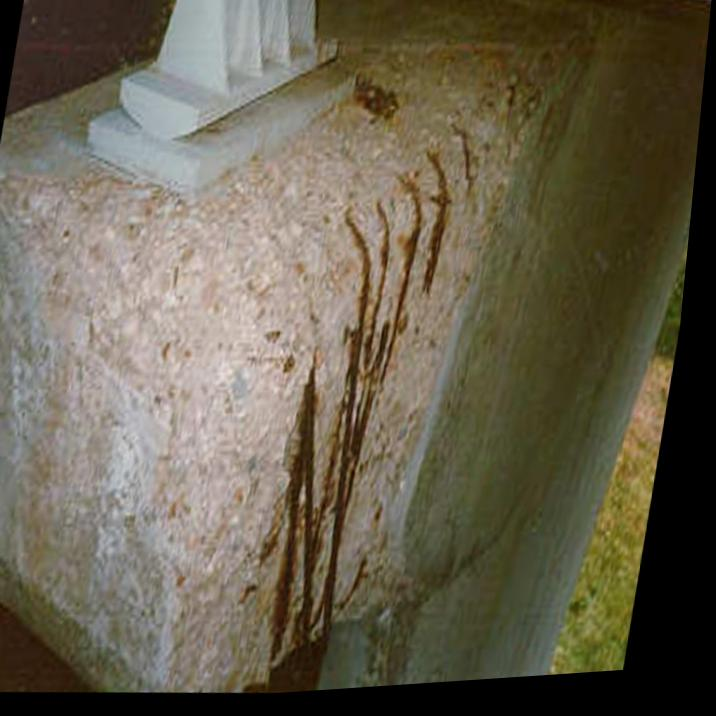damage: (0, 40, 581, 697)
